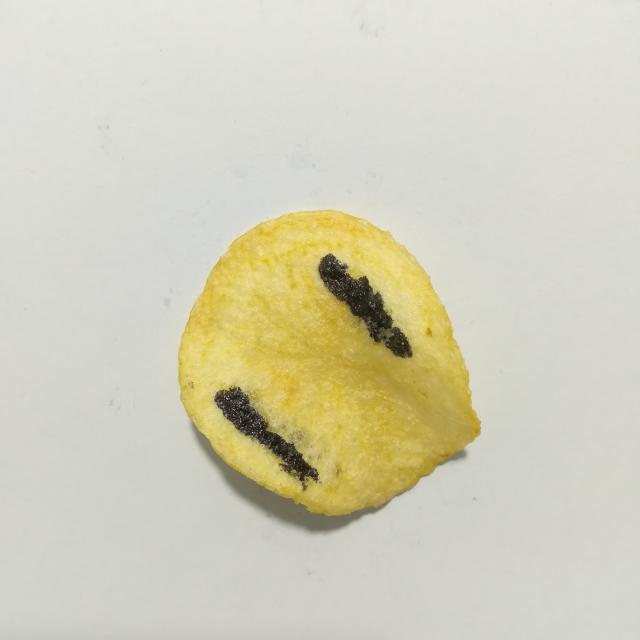chip: (178, 210, 480, 515)
damaged: (214, 387, 318, 490), (318, 253, 412, 358)
semi-damaged: (242, 386, 321, 466)
